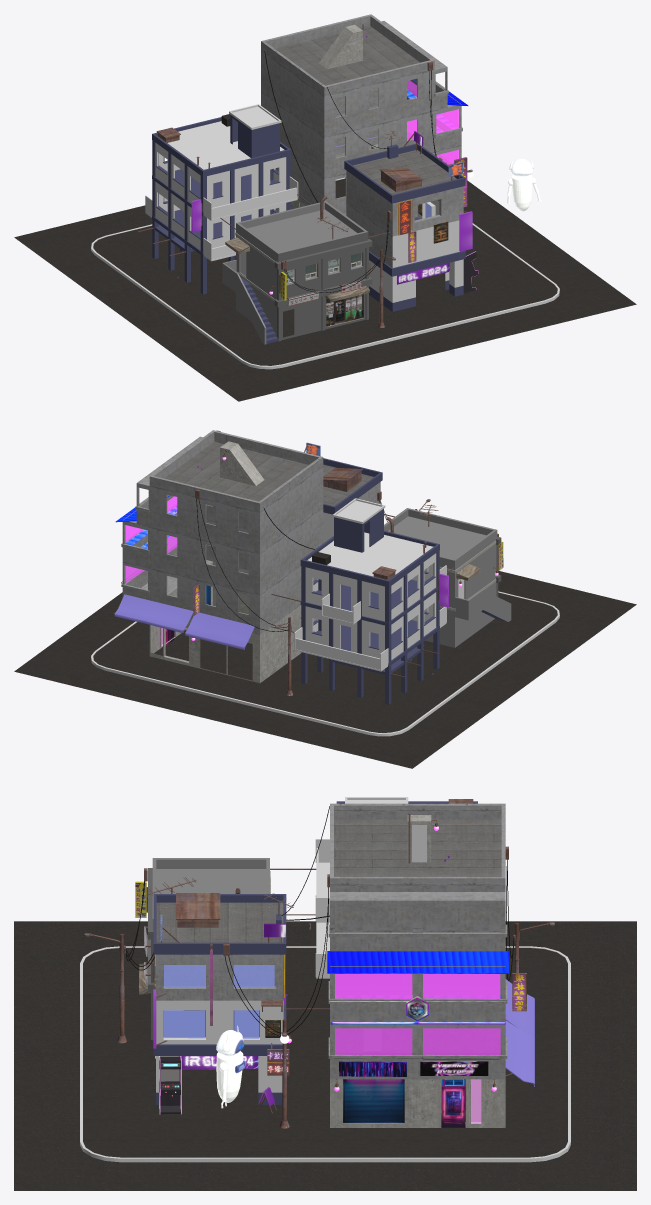
3 renders of one model, top to bottom at view 1: azimuth 30°, elevation 25°; view 2: azimuth 150°, elevation 25°; view 3: azimuth 270°, elevation 25°, orthographic. The views are drawn at different scales.
Visible parts, largest first — view 1: bawah, Object_39.001, bawah.001, Object_13, Object_14, Object_46, Object_42, Object_10, Object_11, Object_25, Object_16, Object_45 (+6 smaller); view 2: bawah, bawah.001, Object_39, Object_13, Object_14, Object_39.001, Object_46, Object_45, Object_10, Object_38, Object_25, Object_11 (+1 smaller); view 3: bawah, bawah.001, Object_39, Object_10, Object_13, Object_11, Object_25, Object_45, Object_46, Cube, Cube.009, Object_38 (+21 smaller).
Boxes of the visible parts, box(x1,y1,x2,y2) form: bawah: box(14, 114, 636, 401); Object_39.001: box(261, 16, 463, 267); bawah.001: box(93, 178, 557, 365); Object_13: box(91, 104, 559, 369); Object_14: box(152, 115, 463, 343); Object_46: box(222, 201, 367, 344); Object_42: box(274, 232, 372, 341); Object_10: box(275, 26, 456, 194); Object_11: box(344, 143, 465, 276); Object_25: box(137, 24, 472, 327); Object_16: box(280, 252, 363, 326); Object_45: box(235, 24, 430, 301); bawah: box(14, 551, 636, 768); bawah.001: box(93, 592, 557, 732); Object_39: box(121, 430, 322, 634); Object_13: box(91, 498, 559, 736); Object_14: box(300, 508, 506, 704); Object_39.001: box(122, 432, 380, 634); Object_46: box(384, 508, 511, 647); Object_45: box(149, 441, 496, 683); Object_10: box(164, 441, 373, 505); Object_38: box(114, 594, 254, 649); Object_25: box(113, 430, 499, 695); Object_11: box(323, 458, 382, 514); bawah: box(14, 921, 636, 1190); bawah.001: box(83, 948, 567, 1157); Object_39: box(156, 803, 507, 1078); Object_10: box(156, 819, 501, 942); Object_13: box(80, 797, 570, 1162); Object_11: box(153, 894, 286, 1055); Object_25: box(84, 799, 554, 1128); Object_45: box(270, 815, 505, 1127); Object_46: box(152, 858, 269, 930); Cube: box(327, 951, 508, 973); Cube.009: box(343, 1079, 404, 1123); Object_38: box(505, 979, 534, 1086).
Size of what is drawn, in the model's own units: 58.16 by 29.12 by 56.77.
